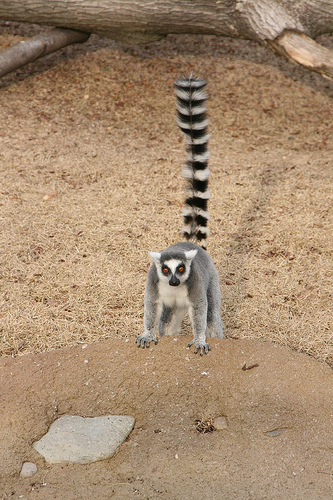cat: (137, 77, 221, 356)
